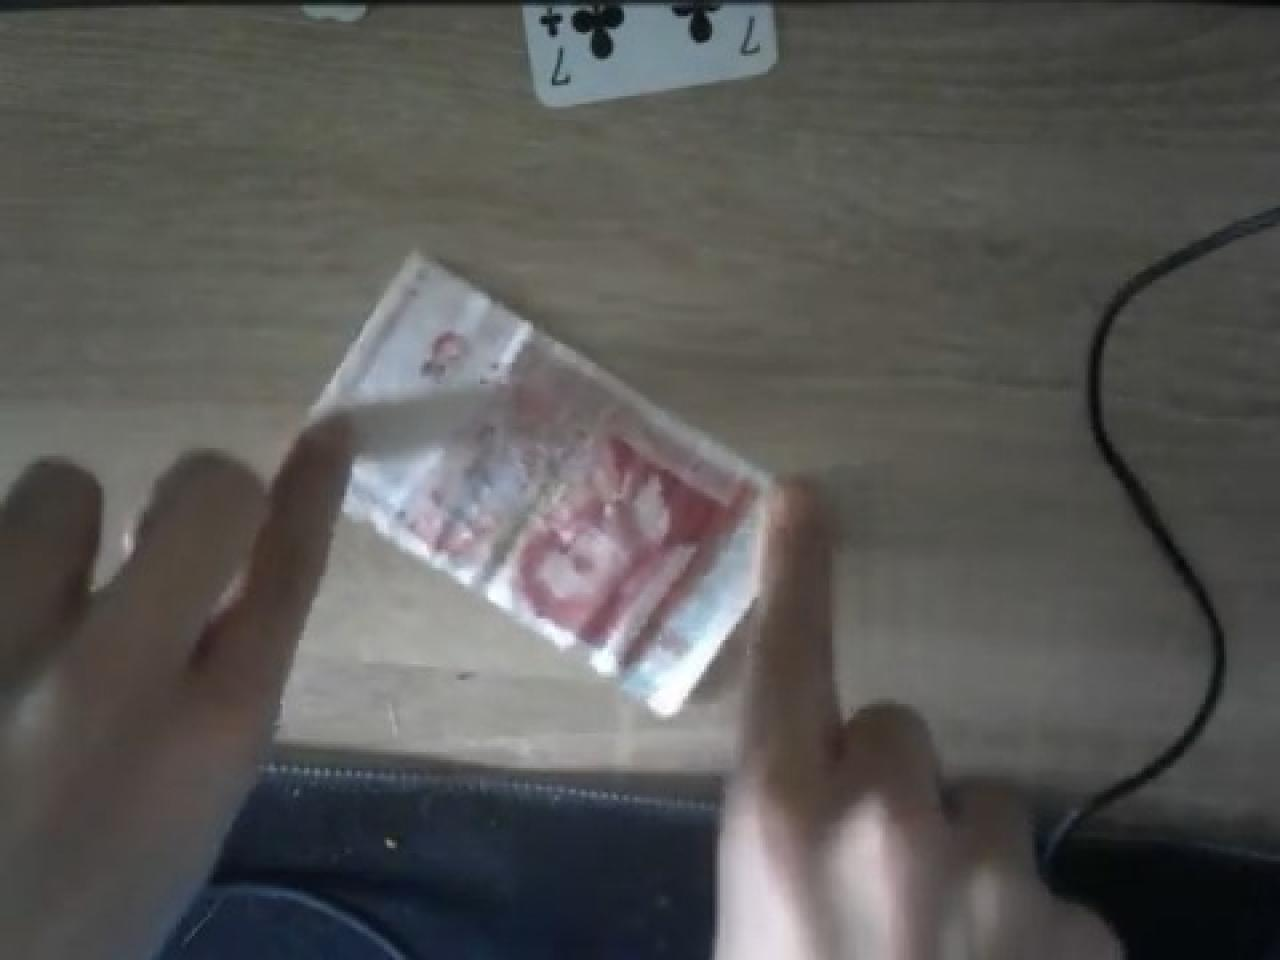5leva: (301, 253, 779, 715)
